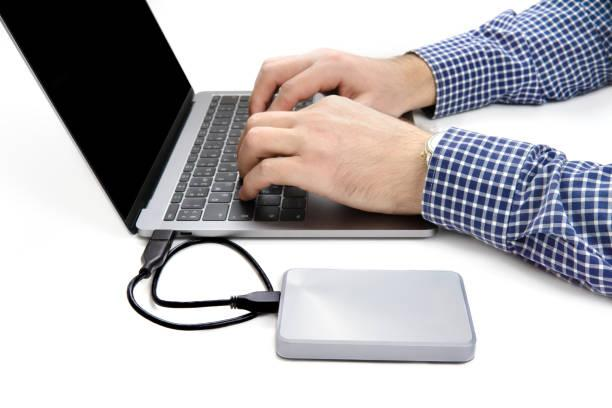HDD: (274, 267, 478, 366)
